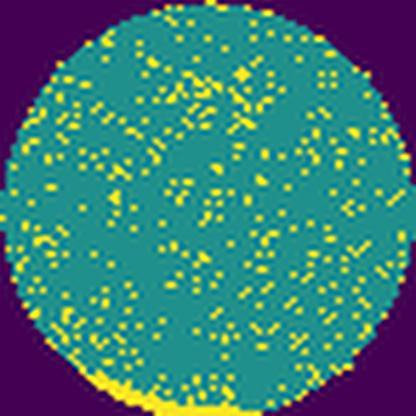Edge-Loc: (69, 361, 266, 416)
